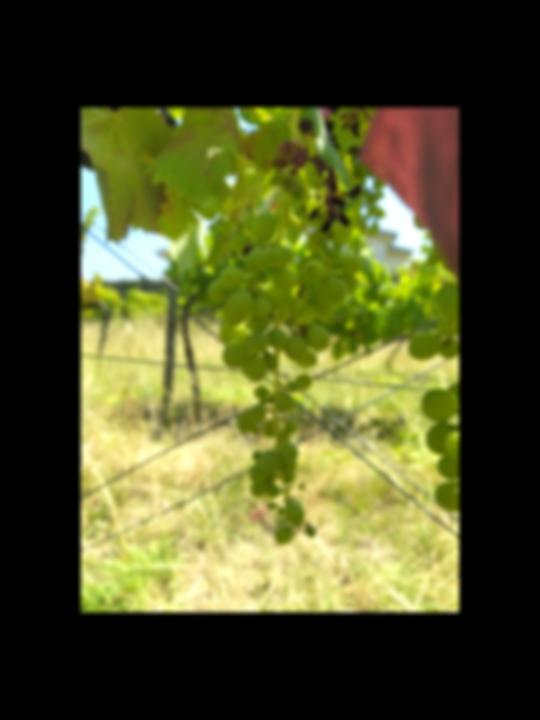grape: (196, 167, 363, 545), (269, 110, 384, 232)
